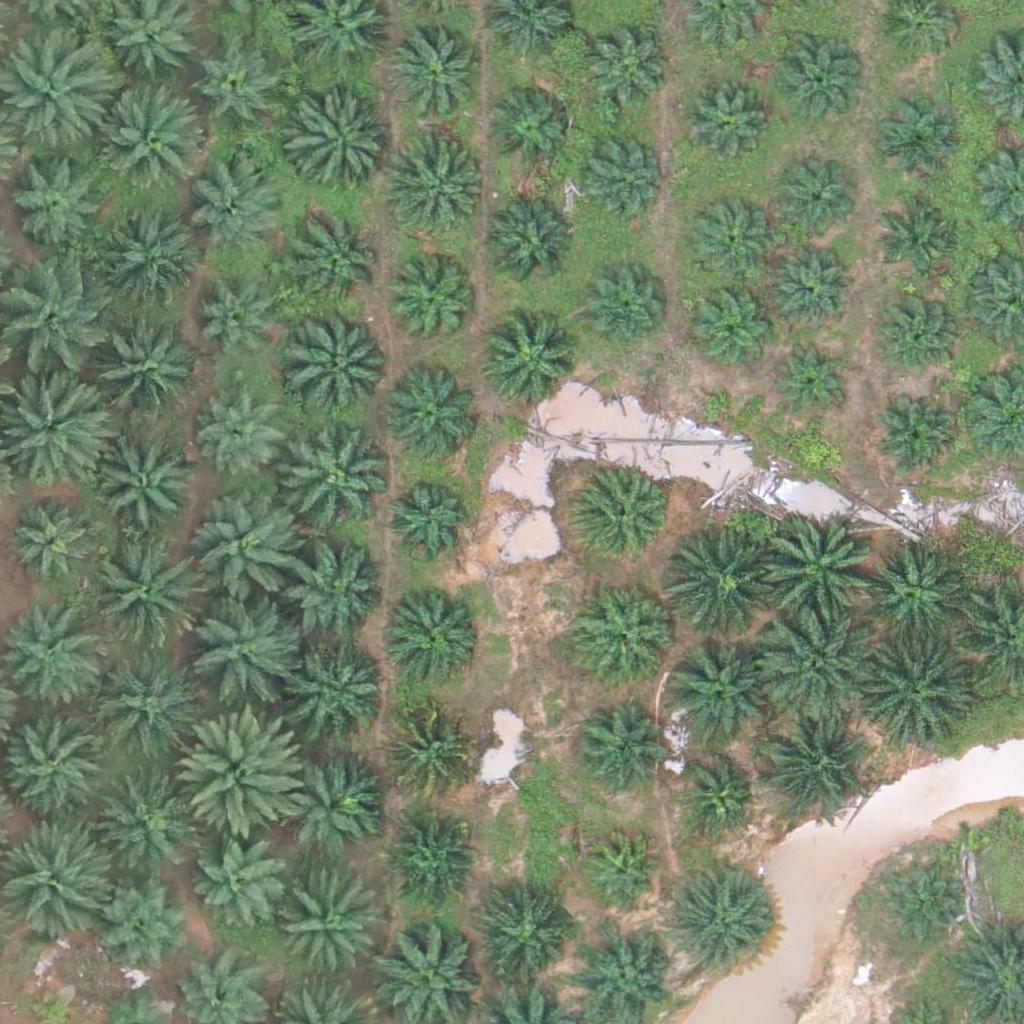Kelapa_Sawit: (182, 711, 307, 837), (856, 635, 969, 749), (184, 589, 297, 703), (85, 318, 198, 432), (86, 537, 199, 650), (90, 649, 203, 762), (663, 531, 776, 644), (278, 420, 391, 533), (2, 264, 115, 377), (191, 495, 304, 608), (284, 305, 396, 419), (1, 41, 113, 155), (764, 610, 876, 723), (763, 514, 875, 627), (98, 87, 210, 200), (664, 640, 764, 741), (384, 582, 484, 683), (291, 641, 391, 742), (277, 878, 377, 979), (94, 770, 194, 871), (96, 871, 196, 972), (863, 541, 963, 642), (478, 196, 578, 297), (479, 312, 579, 413), (388, 140, 488, 241), (288, 96, 388, 197), (97, 434, 197, 535), (2, 146, 102, 247), (762, 715, 862, 815), (672, 875, 772, 975), (575, 583, 675, 683), (286, 548, 386, 648), (276, 748, 376, 848), (573, 468, 673, 568), (381, 368, 481, 468), (290, 212, 390, 312), (191, 156, 291, 256), (98, 212, 198, 312), (875, 862, 963, 950), (572, 700, 660, 788), (483, 895, 571, 983), (383, 706, 471, 794), (581, 27, 669, 115), (574, 129, 662, 217), (676, 77, 764, 165), (774, 32, 862, 120), (873, 395, 961, 483), (390, 262, 478, 350), (382, 475, 470, 563), (9, 500, 97, 588), (386, 814, 473, 902), (194, 838, 281, 926), (581, 264, 668, 352), (691, 281, 778, 369), (687, 196, 774, 284), (772, 157, 859, 245), (773, 241, 860, 329), (871, 285, 958, 373), (879, 188, 966, 276), (871, 91, 958, 179), (486, 82, 573, 170), (395, 26, 482, 114), (195, 45, 282, 133), (195, 289, 282, 377), (200, 394, 287, 482), (774, 338, 849, 414), (584, 831, 659, 907), (679, 757, 754, 832)
